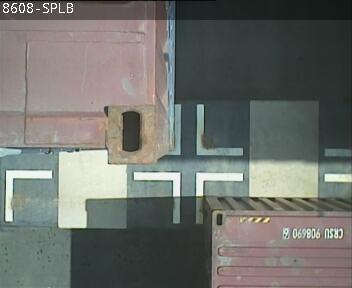groundmarker_1: (132, 169, 244, 224), (166, 102, 246, 156)
